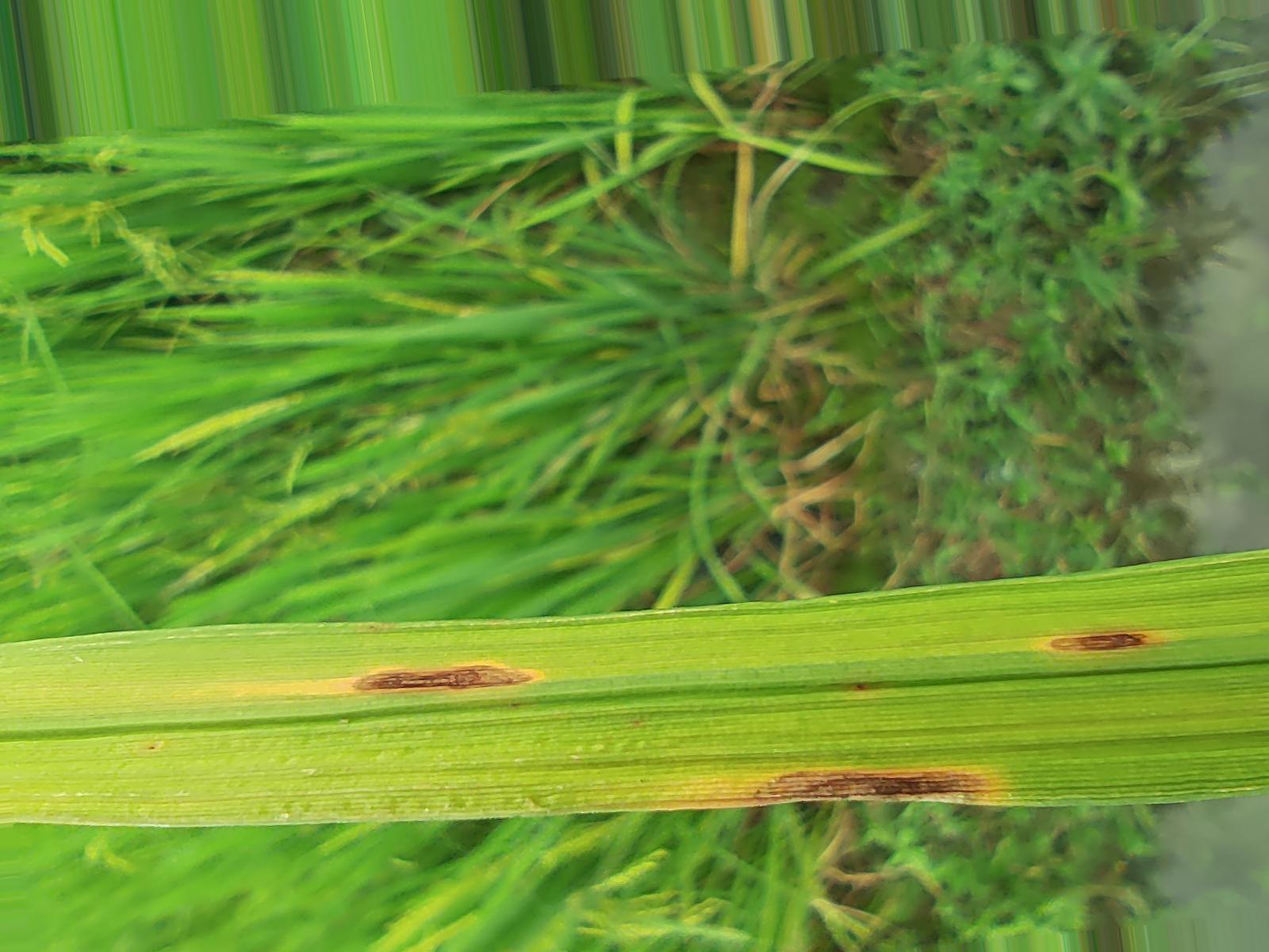LEAF: (0, 551, 1268, 826)
NBS: (0, 551, 1268, 826), (751, 769, 993, 805), (353, 663, 538, 692), (1046, 631, 1152, 653), (851, 683, 870, 691), (145, 746, 156, 750)
